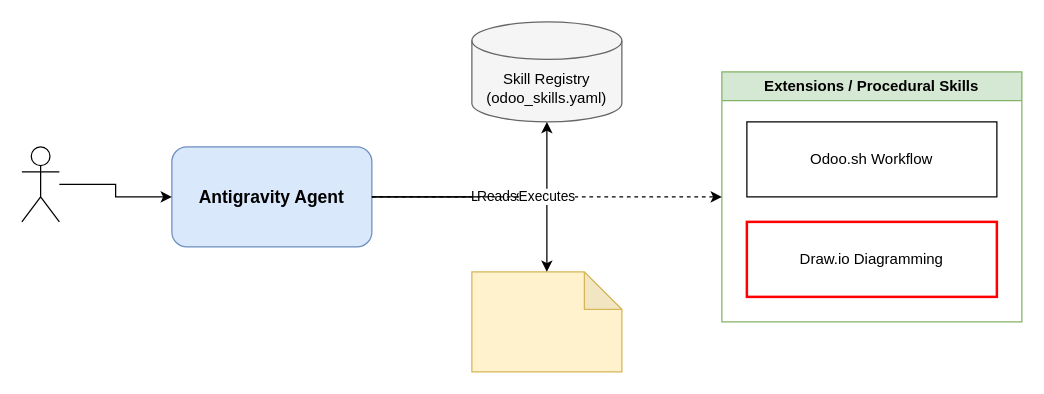
Some shapes in this 1044 by 394 pixel diagram are drawn without their labels. Here are the shapes that lost their labels. From the top down, the box of each, then its label:
(21, 146, 59, 222): User
(471, 271, 622, 372): Knowledge Base (Markdown Index)
